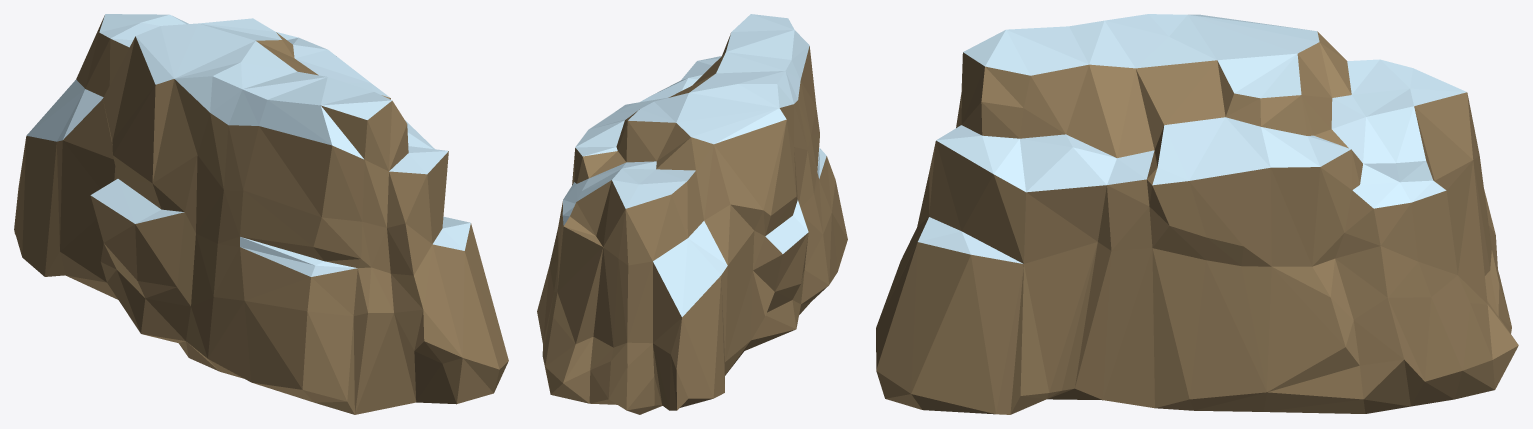
File: model_polytope_snow_rock03.fbx
3 renders of one model, left to right at view 1: azimuth 30°, elevation 25°; view 2: azimuth 150°, elevation 25°; view 3: azimuth 270°, elevation 25°, orthographic. The views are drawn at different scales.
Parts seen in each view (by area): view 1: model_polytope_snow_rock_flat03; view 2: model_polytope_snow_rock_flat03; view 3: model_polytope_snow_rock_flat03.
Boxes of the visible parts, x1,y1,x2,y2 form: model_polytope_snow_rock_flat03: (14,14,508,414); model_polytope_snow_rock_flat03: (537,14,847,414); model_polytope_snow_rock_flat03: (876,14,1518,414).
Size of the model in its own units: 716 by 790 by 1389.
1 material, 1 textured.
